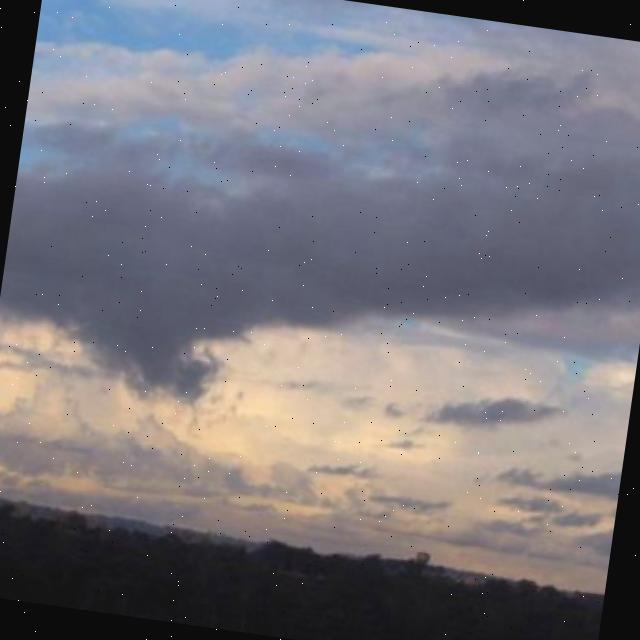Sc: (1, 6, 640, 498)
